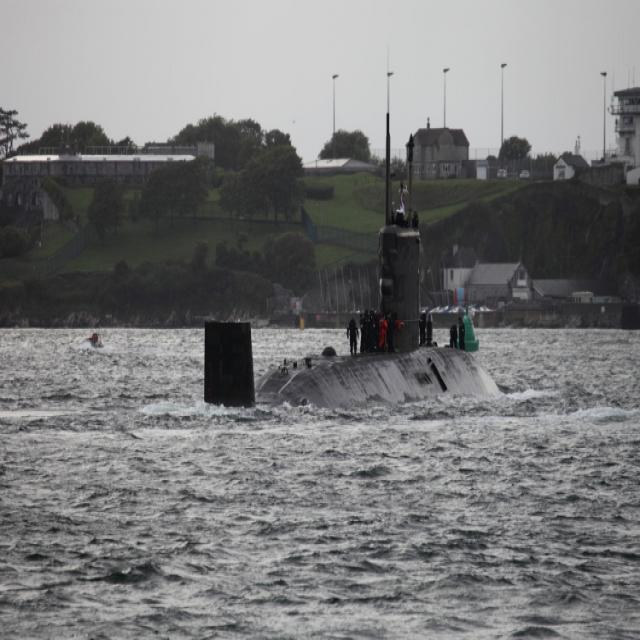submarine: (205, 114, 502, 415)
